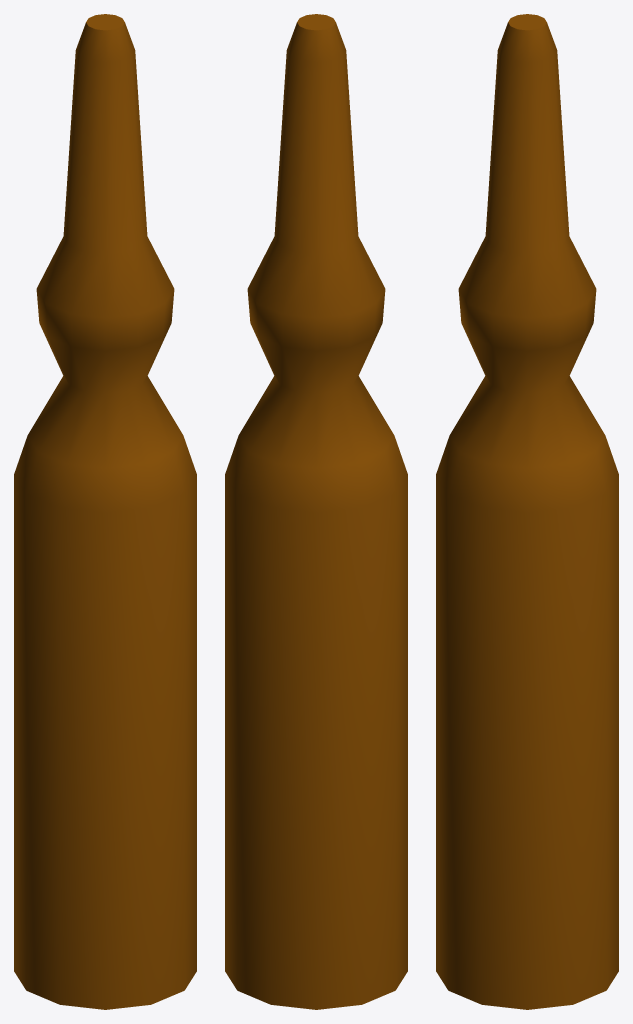
The model's file is ampule2.FBX.
The picture shows the model from 3 angles, left to right: view 1: azimuth 30°, elevation 25°; view 2: azimuth 150°, elevation 25°; view 3: azimuth 270°, elevation 25°; orthographic projection.
Visible parts, largest first — view 1: ampule2; view 2: ampule2; view 3: ampule2.
Part boxes in pixels (<box>): ampule2: <box>14,14,196,1009</box>; ampule2: <box>225,14,407,1009</box>; ampule2: <box>436,14,618,1009</box>.
Size of the model in its own units: 1.01 by 1.01 by 5.79.
